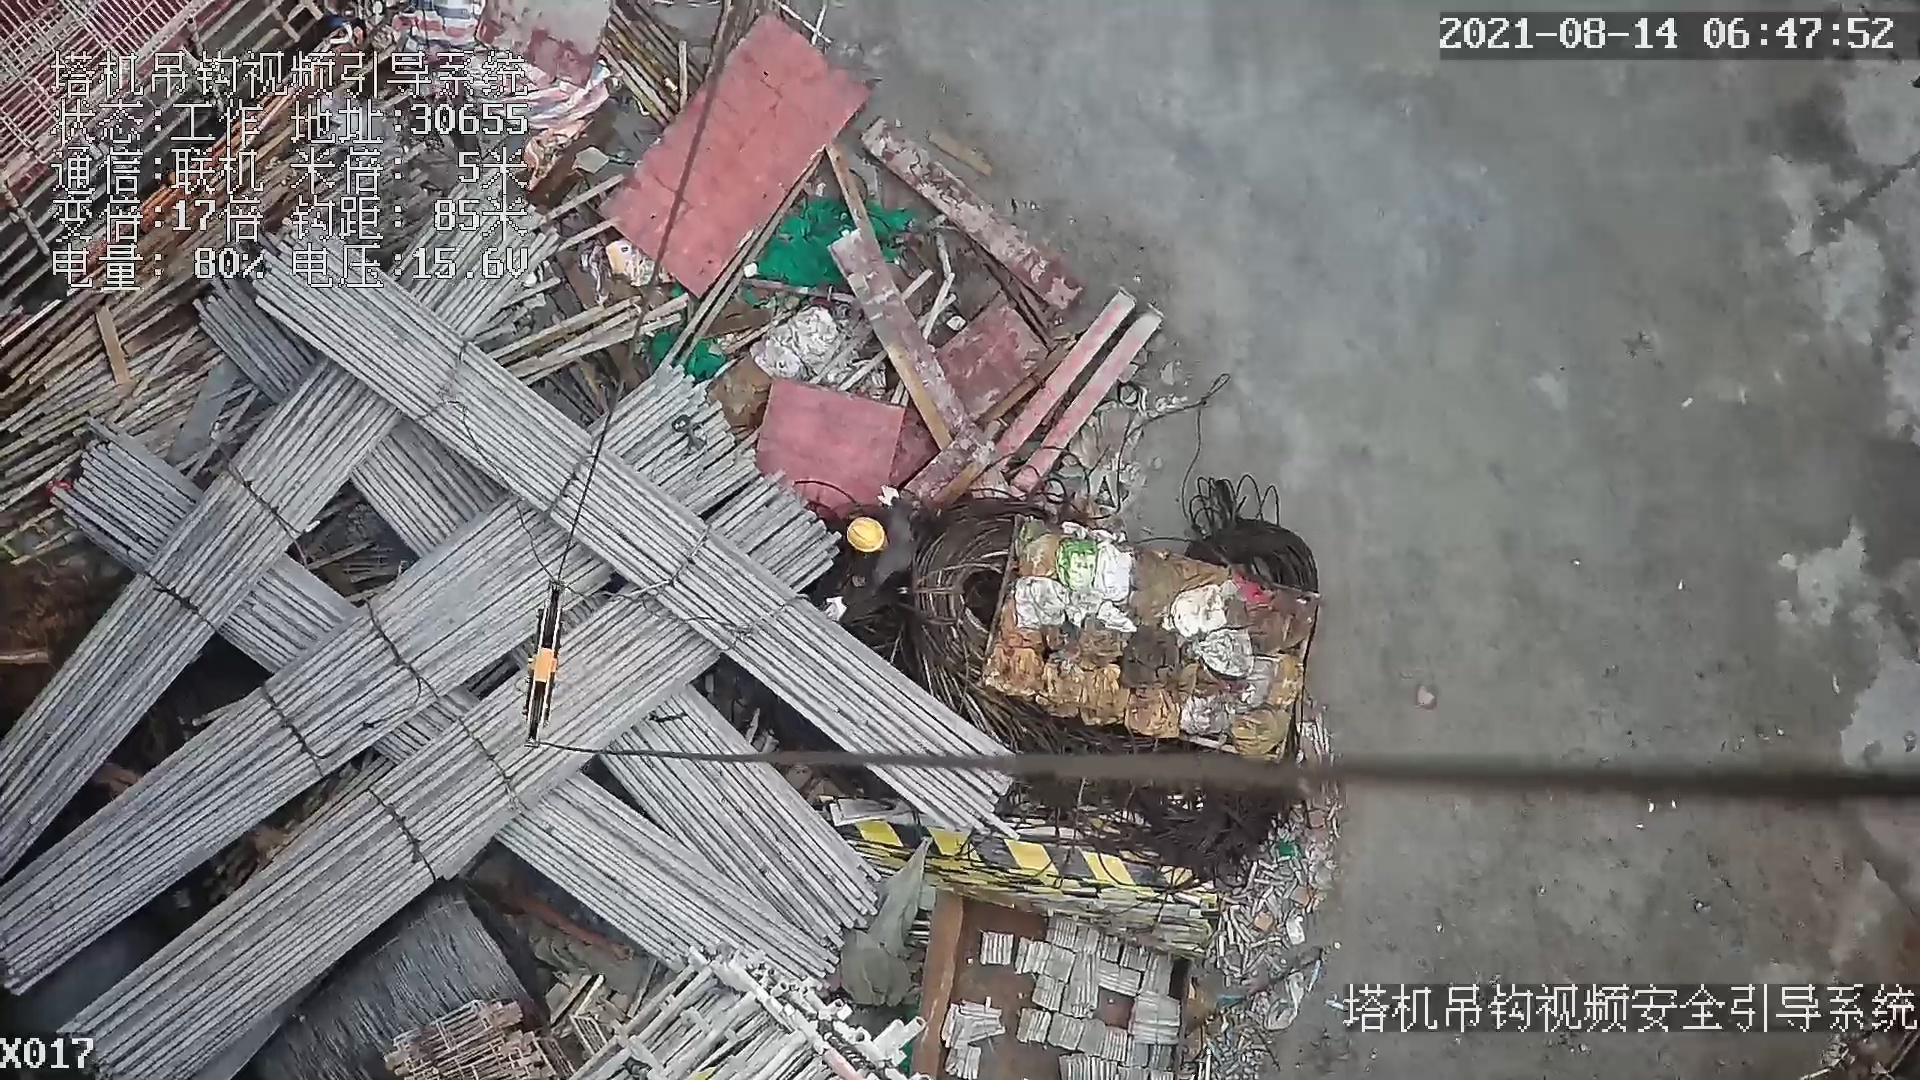board: (604, 17, 863, 302)
helmet: (845, 516, 892, 553)
hook: (515, 576, 570, 755)
person: (819, 491, 926, 635)
